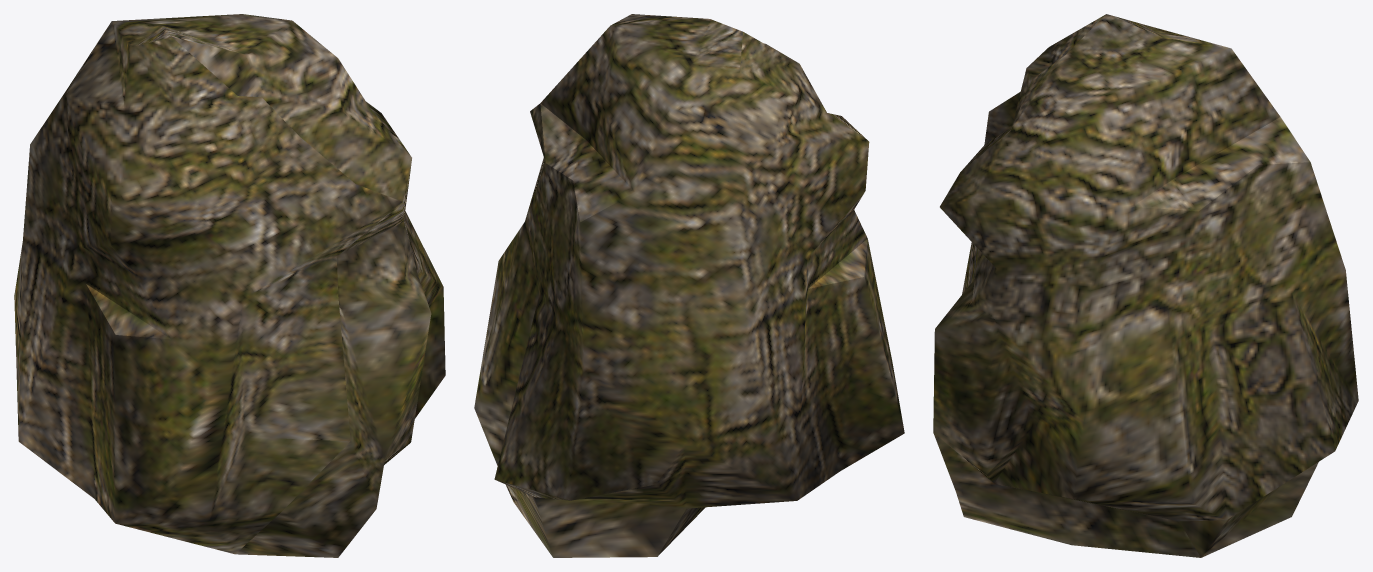
Rendered from SM_Plains_LargeRock_SpireLOD4.FBX.
3 renders of one model, left to right at view 1: azimuth 30°, elevation 25°; view 2: azimuth 150°, elevation 25°; view 3: azimuth 270°, elevation 25°, orthographic. The views are drawn at different scales.
Parts seen in each view (by area): view 1: SM_Plains_LargeRock_SpireLOD4; view 2: SM_Plains_LargeRock_SpireLOD4; view 3: SM_Plains_LargeRock_SpireLOD4.
Boxes of the visible parts, x1,y1,x2,y2 form: SM_Plains_LargeRock_SpireLOD4: (14, 14, 445, 557); SM_Plains_LargeRock_SpireLOD4: (474, 14, 904, 557); SM_Plains_LargeRock_SpireLOD4: (933, 14, 1358, 557).
Size of the model in its own units: 859 by 1080 by 903.
